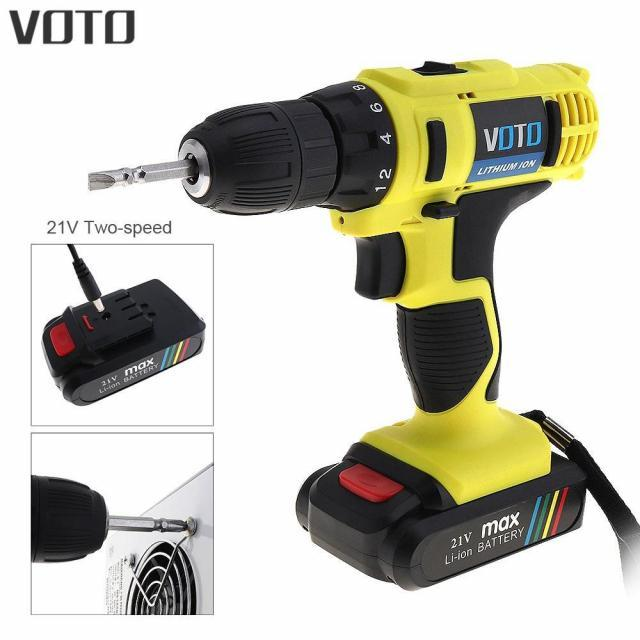drill: (88, 60, 600, 592), (40, 278, 206, 408), (31, 474, 189, 562)
